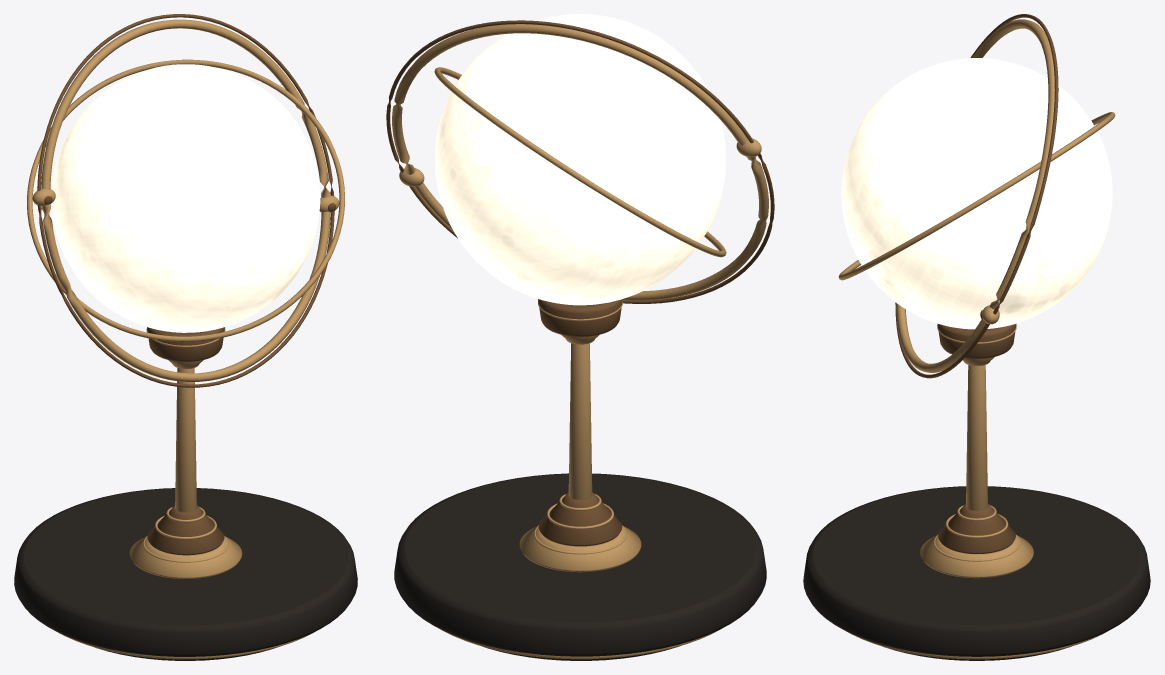
Rendered from moon-lamp.glb.
3 renders of one model, left to right at view 1: azimuth 30°, elevation 25°; view 2: azimuth 150°, elevation 25°; view 3: azimuth 270°, elevation 25°, orthographic. The views are drawn at different scales.
Visible parts, largest first — view 1: Frosted porcelain globe with lunar relief, Honed pedestal.001, Main orbit · polished brass, Inclined orbit · fine bronze, Main orbit · shadow trim, Lamp lower stem shoe, Lamp tapered bronze stem, Lamp flared lower collet, Globe mounting socket, Brushed brass reveal.001; view 2: Frosted porcelain globe with lunar relief, Honed pedestal.001, Main orbit · polished brass, Main orbit · shadow trim, Lamp tapered bronze stem, Lamp lower stem shoe, Lamp flared lower collet, Inclined orbit · fine bronze, Globe mounting socket, Brushed brass reveal.001; view 3: Frosted porcelain globe with lunar relief, Honed pedestal.001, Main orbit · polished brass, Lamp tapered bronze stem, Lamp lower stem shoe, Lamp flared lower collet, Main orbit · shadow trim, Inclined orbit · fine bronze, Globe mounting socket, Brushed brass reveal.001.
Part boxes in pixels (bbox=[...]): Frosted porcelain globe with lunar relief: bbox=[51, 64, 320, 332]; Honed pedestal.001: bbox=[14, 488, 357, 656]; Main orbit · polished brass: bbox=[41, 19, 330, 381]; Inclined orbit · fine bronze: bbox=[27, 59, 344, 341]; Main orbit · shadow trim: bbox=[37, 14, 334, 387]; Lamp lower stem shoe: bbox=[129, 536, 242, 578]; Lamp tapered bronze stem: bbox=[175, 368, 196, 512]; Lamp flared lower collet: bbox=[147, 505, 224, 555]; Globe mounting socket: bbox=[147, 327, 224, 361]; Brushed brass reveal.001: bbox=[56, 631, 315, 659]; Frosted porcelain globe with lunar relief: bbox=[435, 14, 725, 305]; Honed pedestal.001: bbox=[394, 473, 766, 656]; Main orbit · polished brass: bbox=[392, 24, 768, 300]; Main orbit · shadow trim: bbox=[386, 20, 774, 303]; Lamp tapered bronze stem: bbox=[568, 343, 592, 499]; Lamp lower stem shoe: bbox=[519, 526, 641, 572]; Lamp flared lower collet: bbox=[538, 492, 622, 546]; Inclined orbit · fine bronze: bbox=[434, 67, 726, 257]; Globe mounting socket: bbox=[538, 299, 622, 336]; Brushed brass reveal.001: bbox=[440, 628, 722, 659]; Frosted porcelain globe with lunar relief: bbox=[841, 58, 1112, 329]; Honed pedestal.001: bbox=[803, 486, 1150, 656]; Main orbit · polished brass: bbox=[896, 19, 1054, 372]; Lamp tapered bronze stem: bbox=[966, 365, 987, 510]; Lamp lower stem shoe: bbox=[920, 535, 1033, 578]; Lamp flared lower collet: bbox=[938, 503, 1015, 553]; Main orbit · shadow trim: bbox=[895, 14, 1058, 378]; Inclined orbit · fine bronze: bbox=[838, 112, 1115, 280]; Globe mounting socket: bbox=[937, 323, 1016, 358]; Brushed brass reveal.001: bbox=[848, 632, 1105, 659].
Bounding box in the file's own units: 0.7071 × 1.18 × 0.66.
4 materials, 1 textured.
